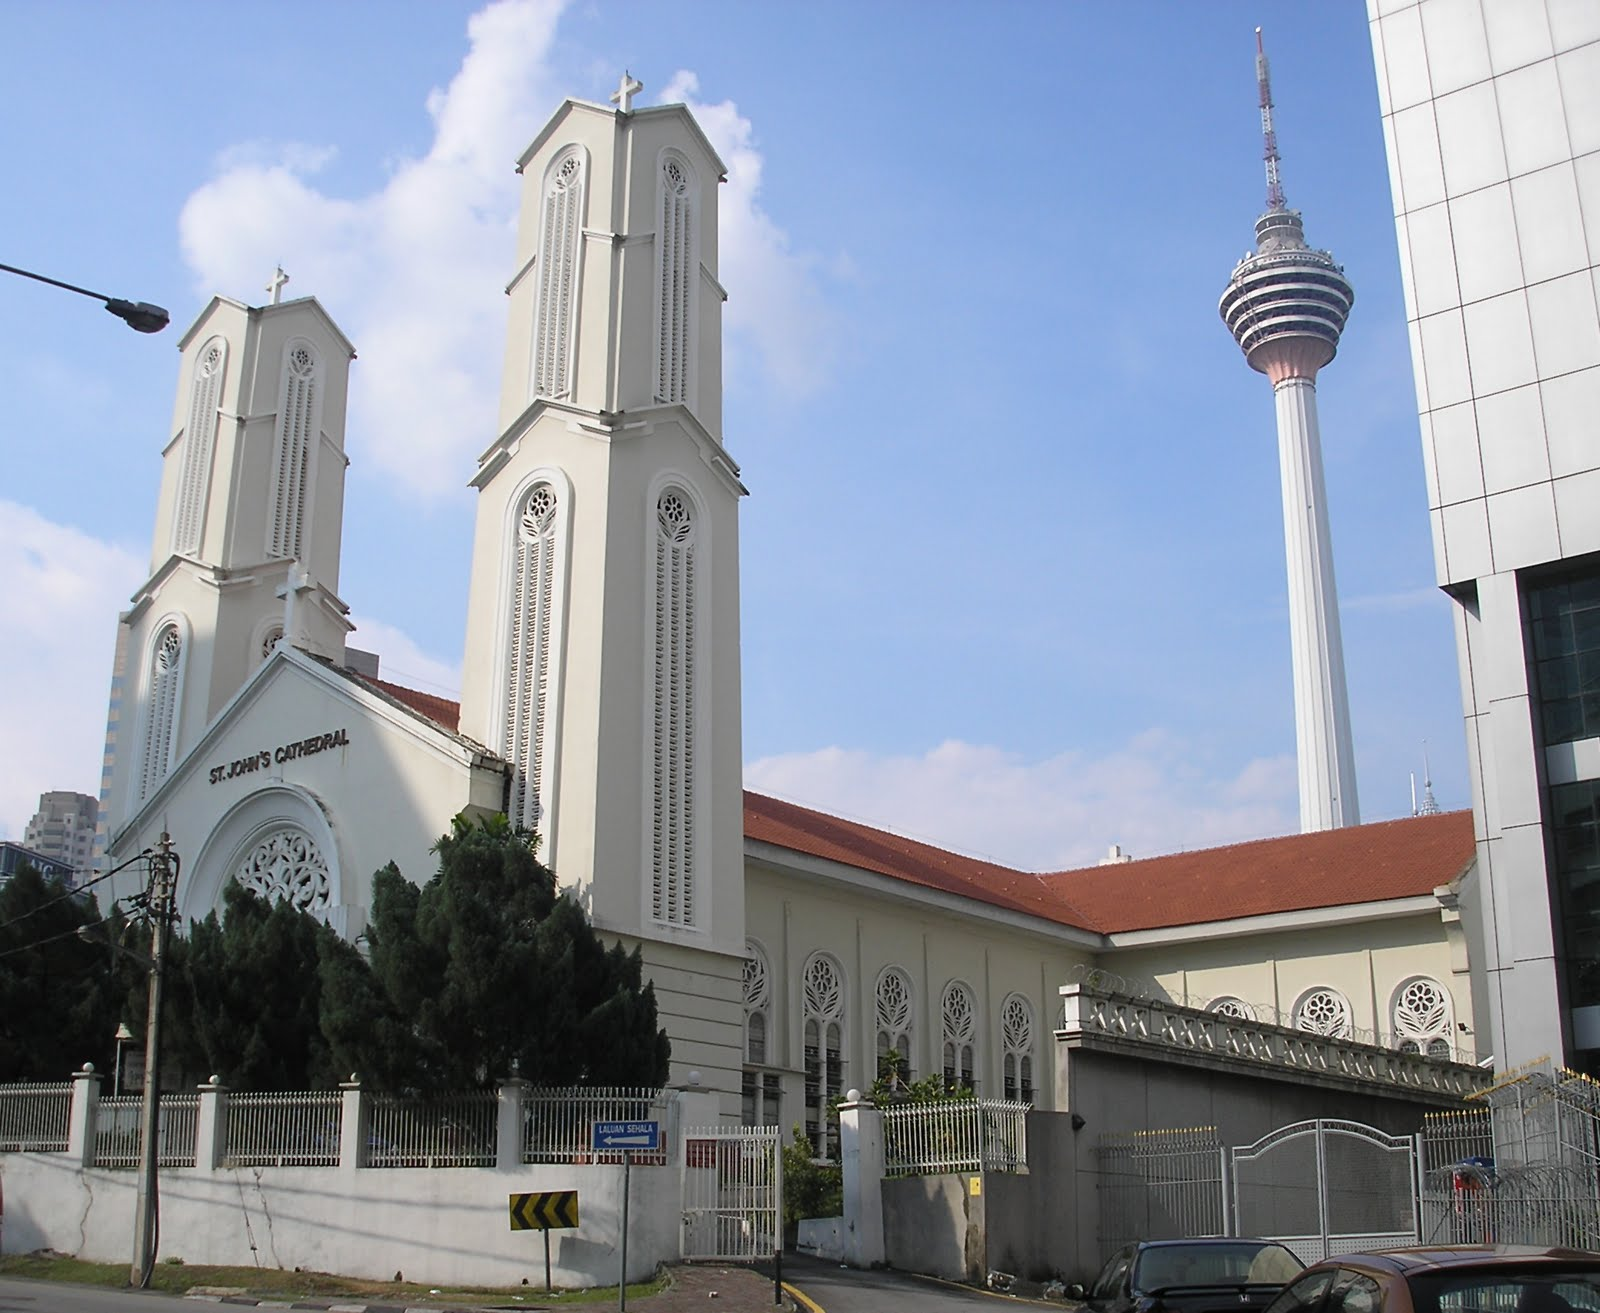Church: (54, 74, 759, 1143)
